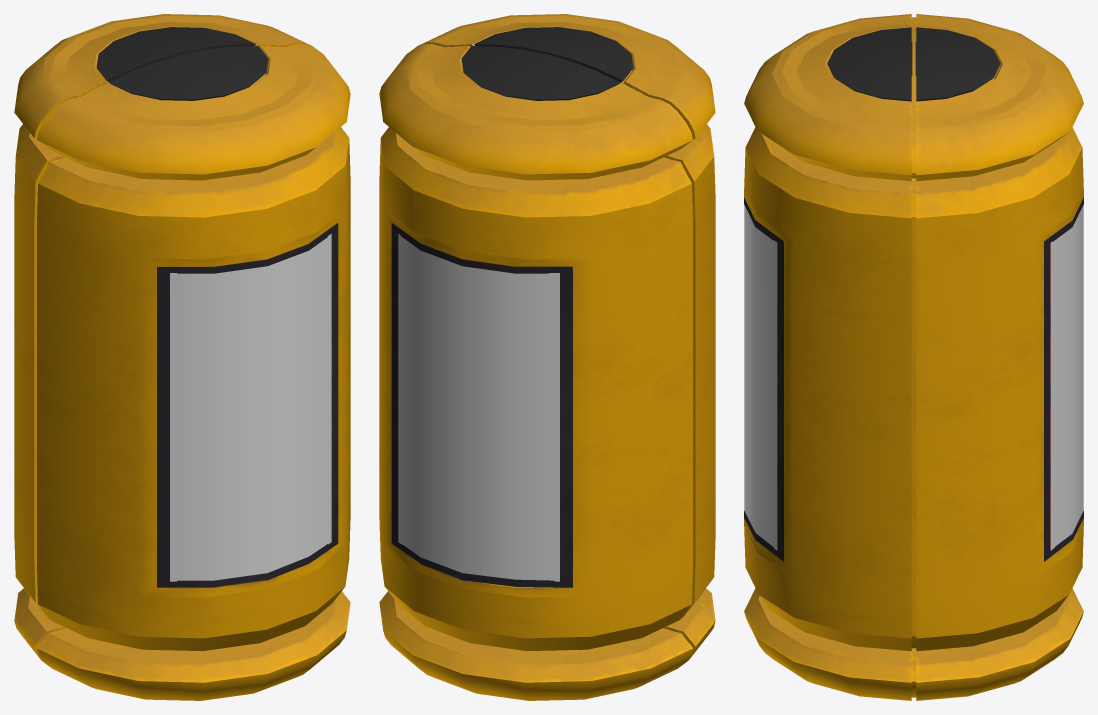
File: Baterias.fbx
3 views of the same model, side by side, from view 1: azimuth 30°, elevation 25°; view 2: azimuth 150°, elevation 25°; view 3: azimuth 270°, elevation 25° (orthographic).
Parts seen in each view (by area): view 1: Bateria_Small, Cristal_Bateria_small, Marco_Bateria_Small2; view 2: Bateria_Small, Cristal_Bateria_small, Marco_Bateria_Small2; view 3: Bateria_Small, Cristal_Bateria_small, Marco_Bateria_Small2.
Part boxes in pixels (x1=…): Bateria_Small: x1=14, y1=14, x2=350, y2=700; Cristal_Bateria_small: x1=170, y1=234, x2=331, y2=581; Marco_Bateria_Small2: x1=157, y1=223, x2=338, y2=587; Bateria_Small: x1=379, y1=14, x2=715, y2=700; Cristal_Bateria_small: x1=398, y1=234, x2=559, y2=581; Marco_Bateria_Small2: x1=391, y1=223, x2=572, y2=587; Bateria_Small: x1=744, y1=14, x2=1083, y2=700; Cristal_Bateria_small: x1=744, y1=205, x2=1083, y2=550; Marco_Bateria_Small2: x1=744, y1=197, x2=1083, y2=561.
Bounding box in the file's own units: 111 × 220 × 111.
2 materials, 1 textured.
